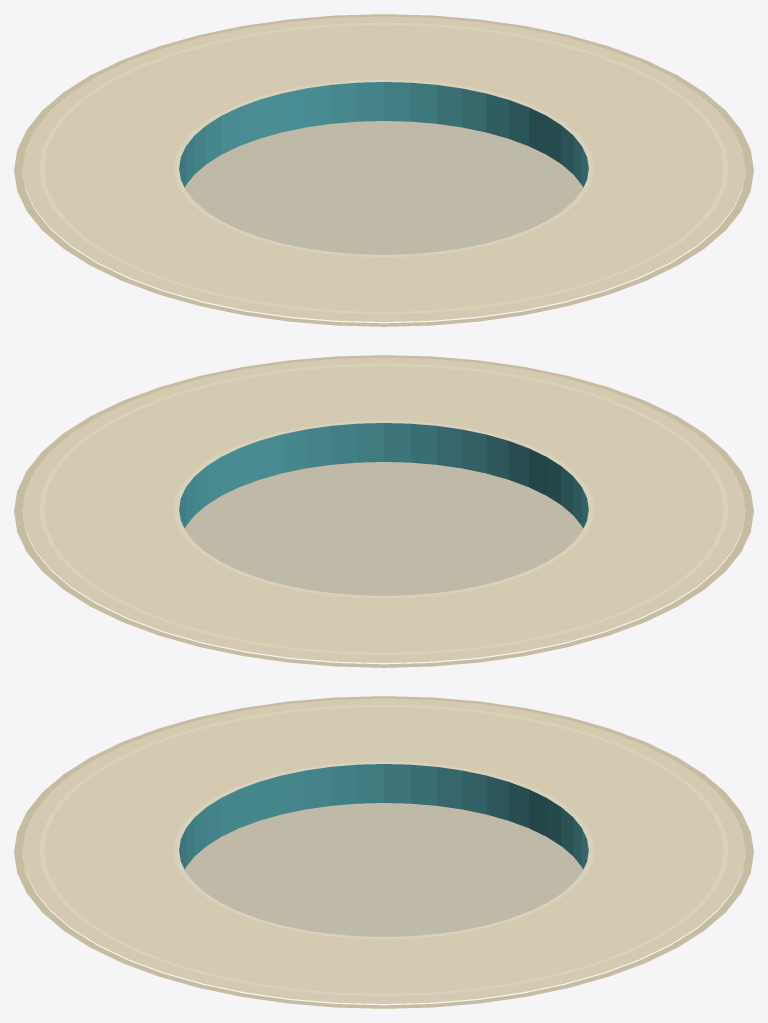
Rendered from isla_laguna.glb.
The picture shows the model from 3 angles, top to bottom: view 1: azimuth 30°, elevation 25°; view 2: azimuth 150°, elevation 25°; view 3: azimuth 270°, elevation 25°; orthographic projection.
Visible parts, largest first — view 1: isla_laguna; view 2: isla_laguna; view 3: isla_laguna.
Boxes of the visible parts, x1,y1,x2,y2 form: isla_laguna: (14, 14, 753, 326); isla_laguna: (14, 355, 753, 667); isla_laguna: (14, 696, 753, 1008).
Size of the model in its own units: 30.7 by 1.83 by 30.7.
